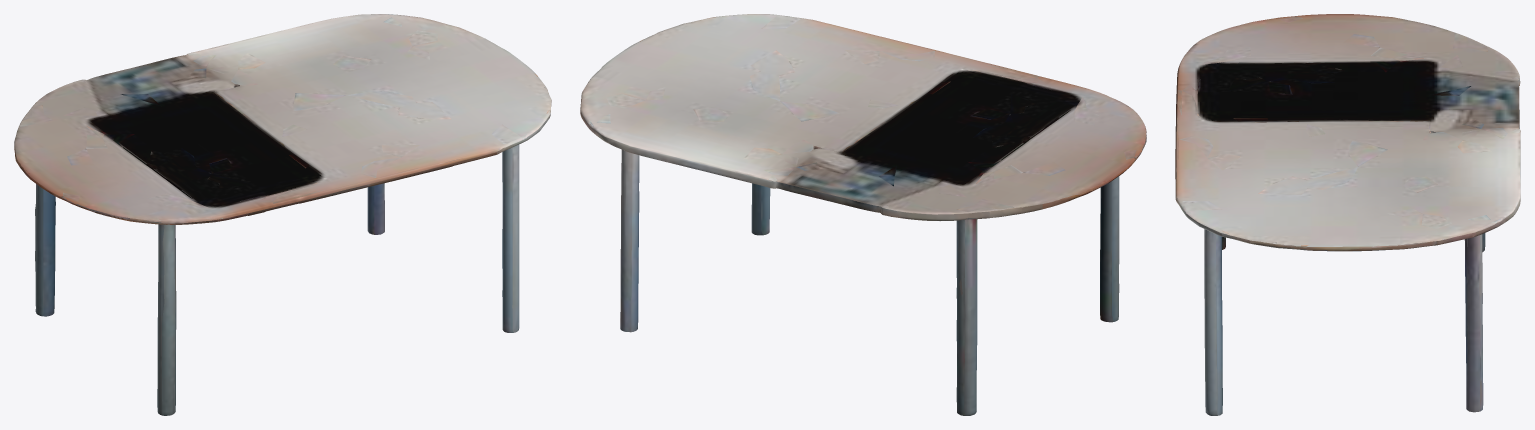
3 views of the same model, side by side, from view 1: azimuth 30°, elevation 25°; view 2: azimuth 150°, elevation 25°; view 3: azimuth 270°, elevation 25° (orthographic). The views are drawn at different scales.
Visible parts, largest first — view 1: world; view 2: world; view 3: world.
Part boxes in pixels (x1,y1,x2,y2): world: (14,14,551,415); world: (580,14,1146,415); world: (1175,14,1520,415).
Bounding box in the file's own units: 0.7468 × 0.3007 × 0.4641.
1 material, 1 textured.
